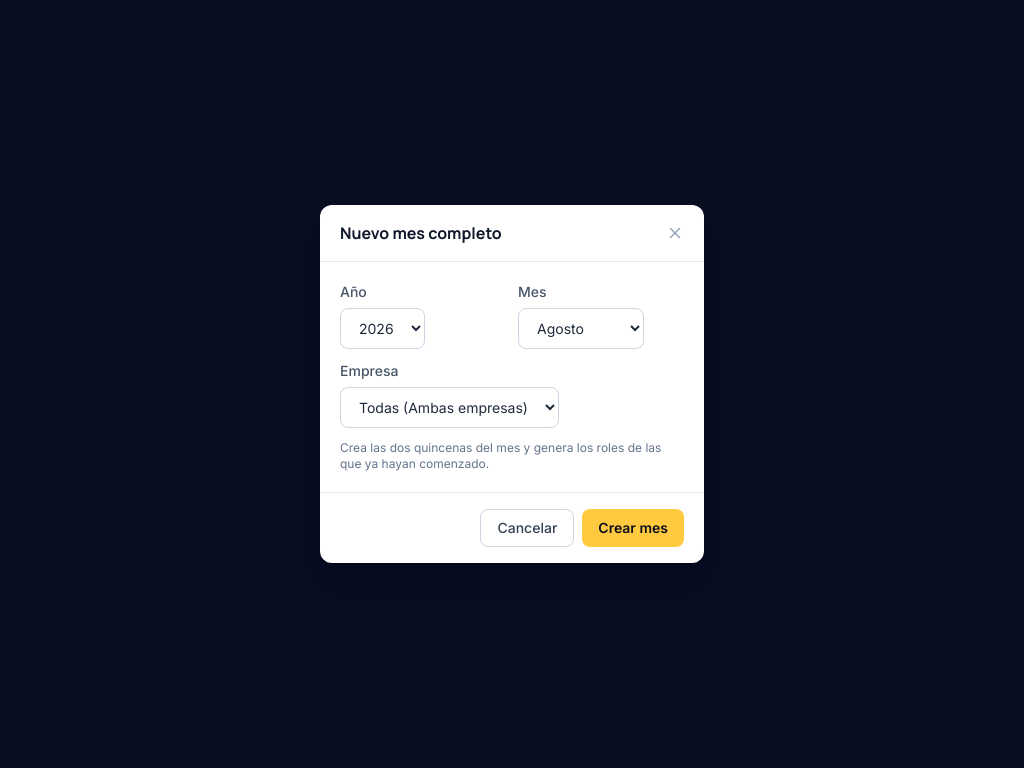
NuevoMesModal › muestra a los omitidos y no cierra el modal cuando quedó gente afuera
Click the button "Crear mes" at (633, 528), box x1=582 y1=509 x2=684 y2=547
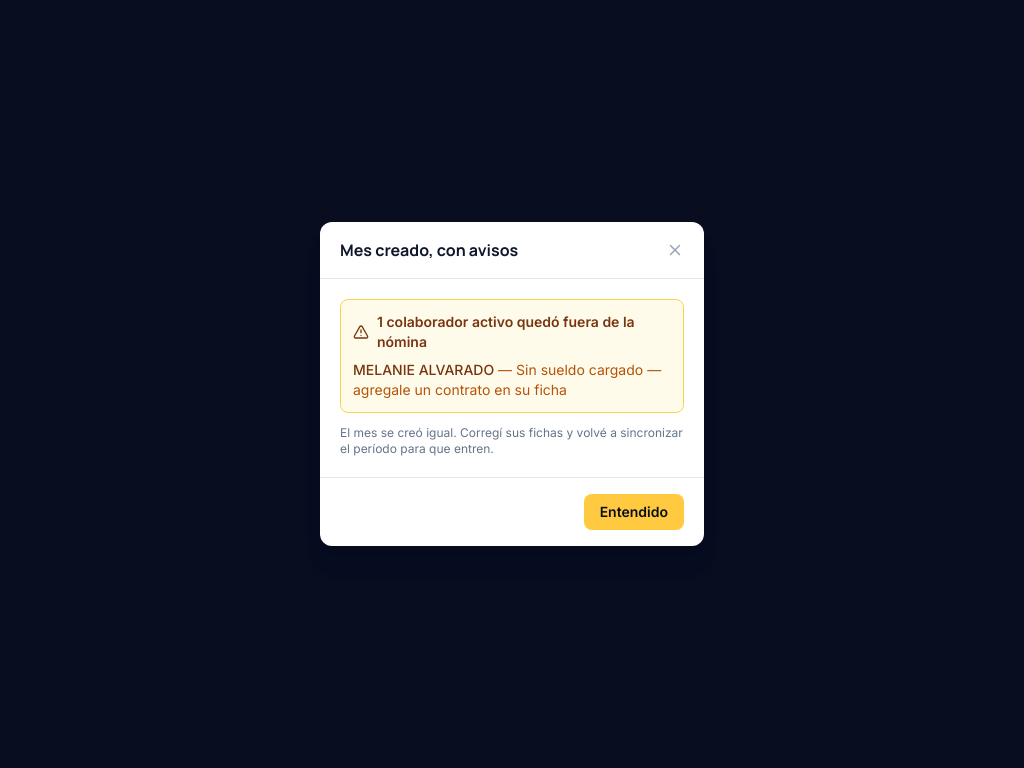
Check: the text "MELANIE ALVARADO" is shown, box x1=353 y1=361 x2=494 y2=378
Check: the text "— Sin sueldo cargado — agregale un contrato en su ficha" is shown, box x1=353 y1=361 x2=661 y2=398
